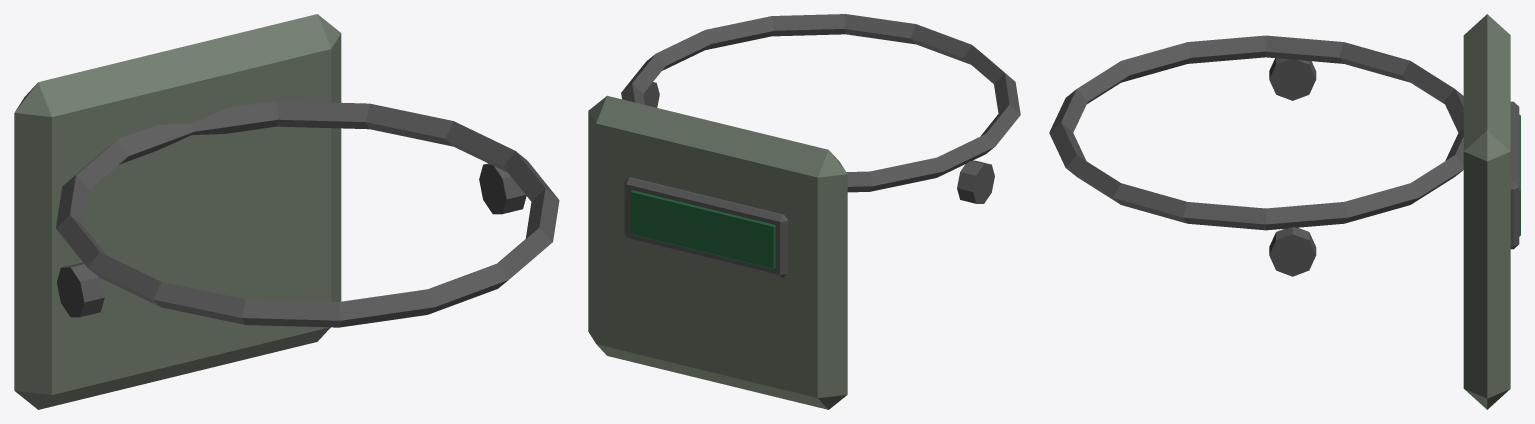
File: face_welder_mask.glb
3 renders of one model, left to right at view 1: azimuth 30°, elevation 25°; view 2: azimuth 150°, elevation 25°; view 3: azimuth 270°, elevation 25°, orthographic. The views are drawn at different scales.
Visible parts, largest first — view 1: Head; view 2: Head; view 3: Head.
Part boxes in pixels (<box>): Head: <box>14,14,559,409</box>; Head: <box>588,14,1020,409</box>; Head: <box>1049,14,1520,409</box>.
Bounding box in the file's own units: 0.65 × 0.46 × 0.703.
